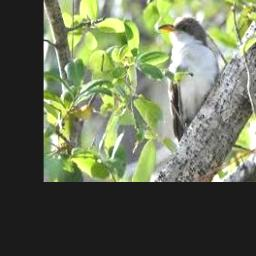Cuckoo: (158, 16, 219, 143)
